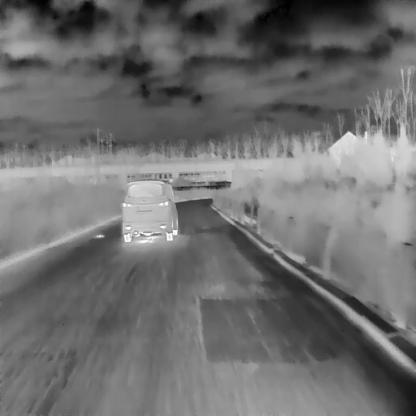car: (122, 178, 176, 242)
